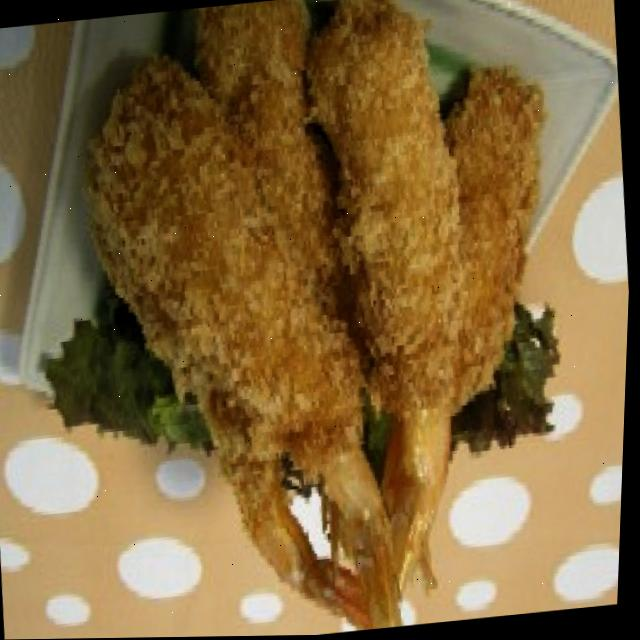炸货点心: (56, 0, 591, 639)
熟制海鲜: (56, 0, 591, 639)
